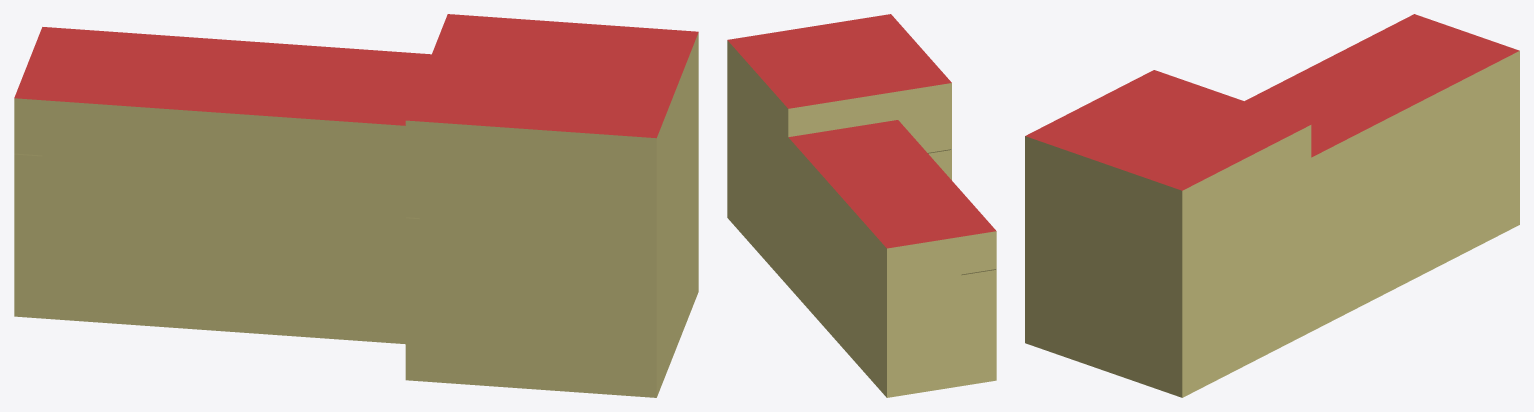
The picture shows the model from 3 angles, left to right: view 1: azimuth 30°, elevation 25°; view 2: azimuth 150°, elevation 25°; view 3: azimuth 270°, elevation 25°; orthographic projection. The views are drawn at different scales.
Parts seen in each view (by area): view 1: group_4, group_7, group_3, group_6; view 2: group_4, group_7, group_3, group_6; view 3: group_7, group_4, group_6, group_3.
Boxes of the visible parts, x1,y1,x2,y2 form: group_4: (14, 98, 470, 344); group_7: (405, 33, 698, 397); group_3: (14, 27, 431, 125); group_6: (405, 14, 698, 138); group_4: (778, 127, 996, 397); group_7: (727, 40, 951, 275); group_3: (788, 120, 996, 248); group_6: (727, 14, 951, 108); group_7: (1025, 125, 1311, 397); group_4: (1291, 51, 1519, 341); group_6: (1025, 70, 1310, 190); group_3: (1245, 14, 1519, 157).
Size of the model in its own units: 52.31 by 52.12 by 24.08.
